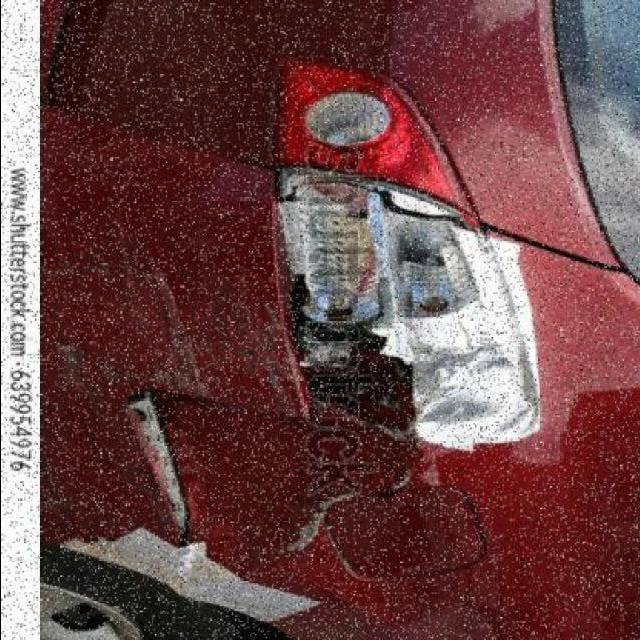Taillight-Damage: (244, 68, 555, 462)
quaterpanel-dent: (40, 393, 640, 636)
